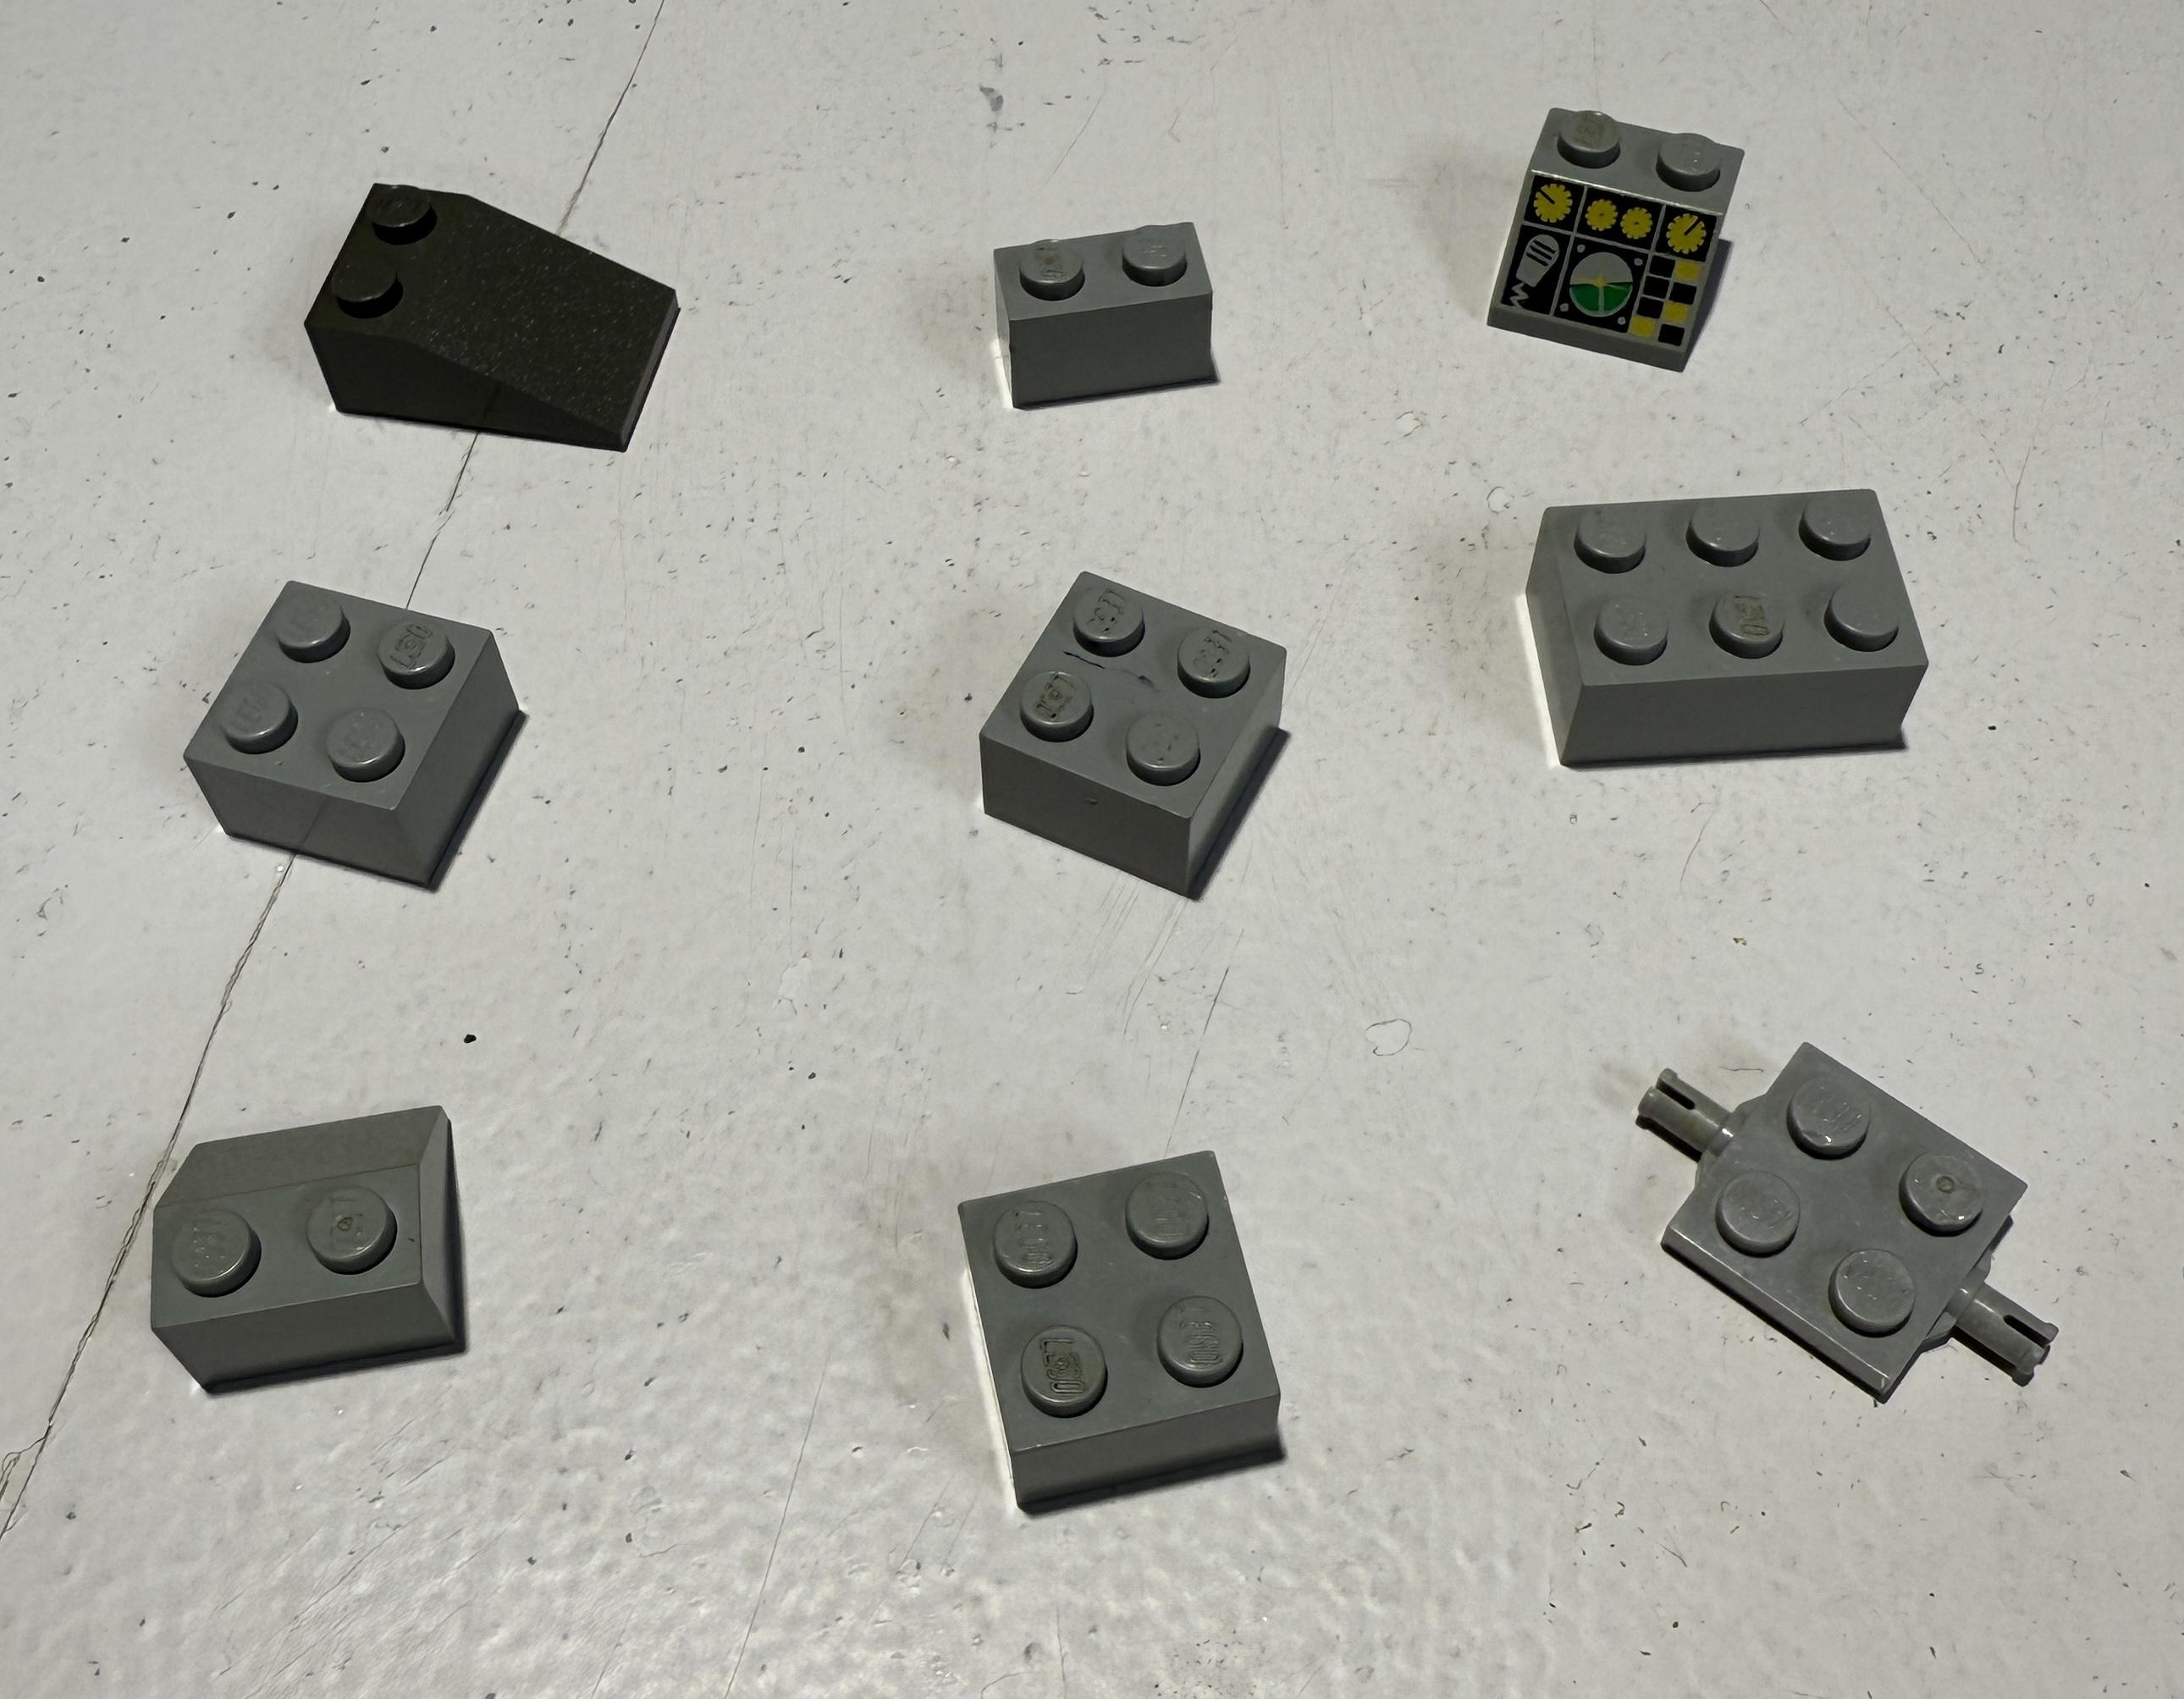Special_02: (128, 1066, 518, 1413), (1427, 87, 1787, 395)
brick_1x2: (957, 195, 1252, 440)
brick_2x2: (936, 548, 1383, 926), (151, 564, 569, 912), (947, 1133, 1301, 1531)
brick_2x3: (1507, 456, 1938, 826)
